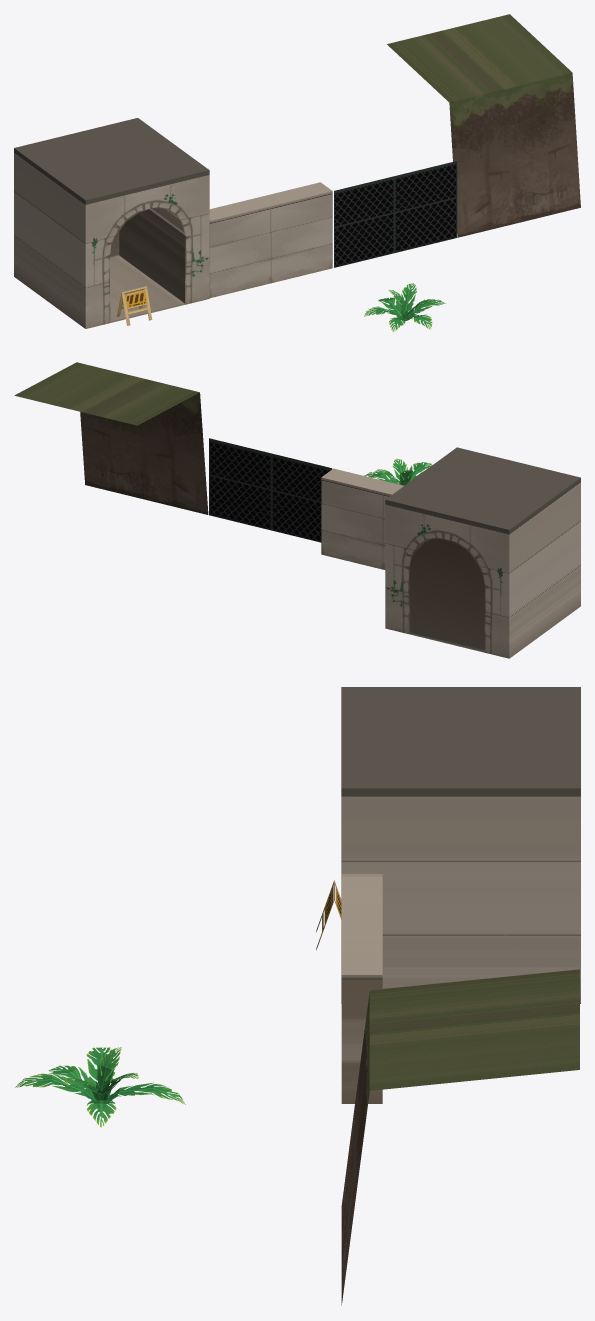
Rendered from bordasemuros.fbx.
3 views of the same model, one above another, from view 1: azimuth 30°, elevation 25°; view 2: azimuth 150°, elevation 25°; view 3: azimuth 270°, elevation 25° (orthographic). The views are drawn at different scales.
Parts seen in each view (by area): view 1: tunel, morro, muro, cerca, samambaia, Plane; view 2: tunel, morro, cerca, muro, samambaia; view 3: tunel, morro, muro, samambaia.
Part boxes in pixels (left/top/right/bottom): tunel: left=14, top=118, right=209, bottom=328; morro: left=387, top=14, right=580, bottom=237; muro: left=209, top=182, right=332, bottom=297; cerca: left=334, top=161, right=457, bottom=267; samambaia: left=364, top=283, right=445, bottom=331; Plane: left=116, top=286, right=152, bottom=325; tunel: left=385, top=447, right=580, bottom=658; morro: left=14, top=362, right=208, bottom=514; cerca: left=209, top=438, right=332, bottom=542; muro: left=321, top=468, right=403, bottom=569; samambaia: left=364, top=459, right=432, bottom=485; tunel: left=341, top=687, right=580, bottom=1003; morro: left=341, top=969, right=579, bottom=1305; muro: left=341, top=874, right=382, bottom=1103; samambaia: left=15, top=1047, right=185, bottom=1127.
Bounding box in the file's own units: 400 × 110 × 237.
